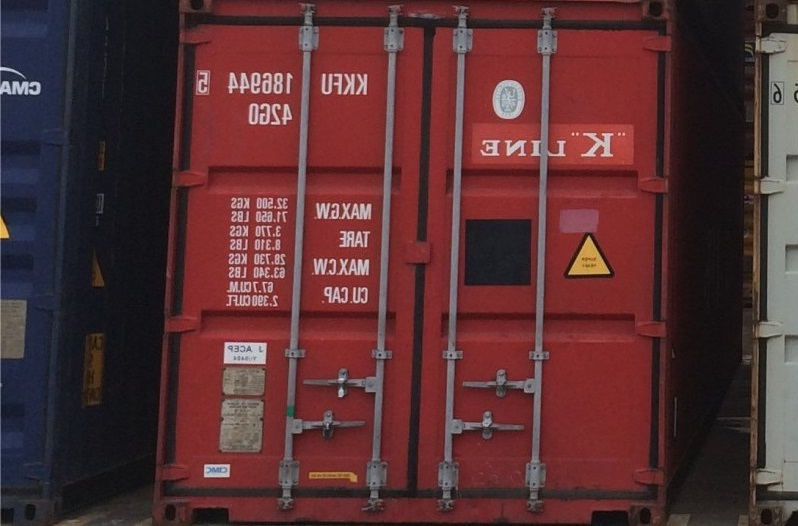container_door: (166, 3, 665, 526)
